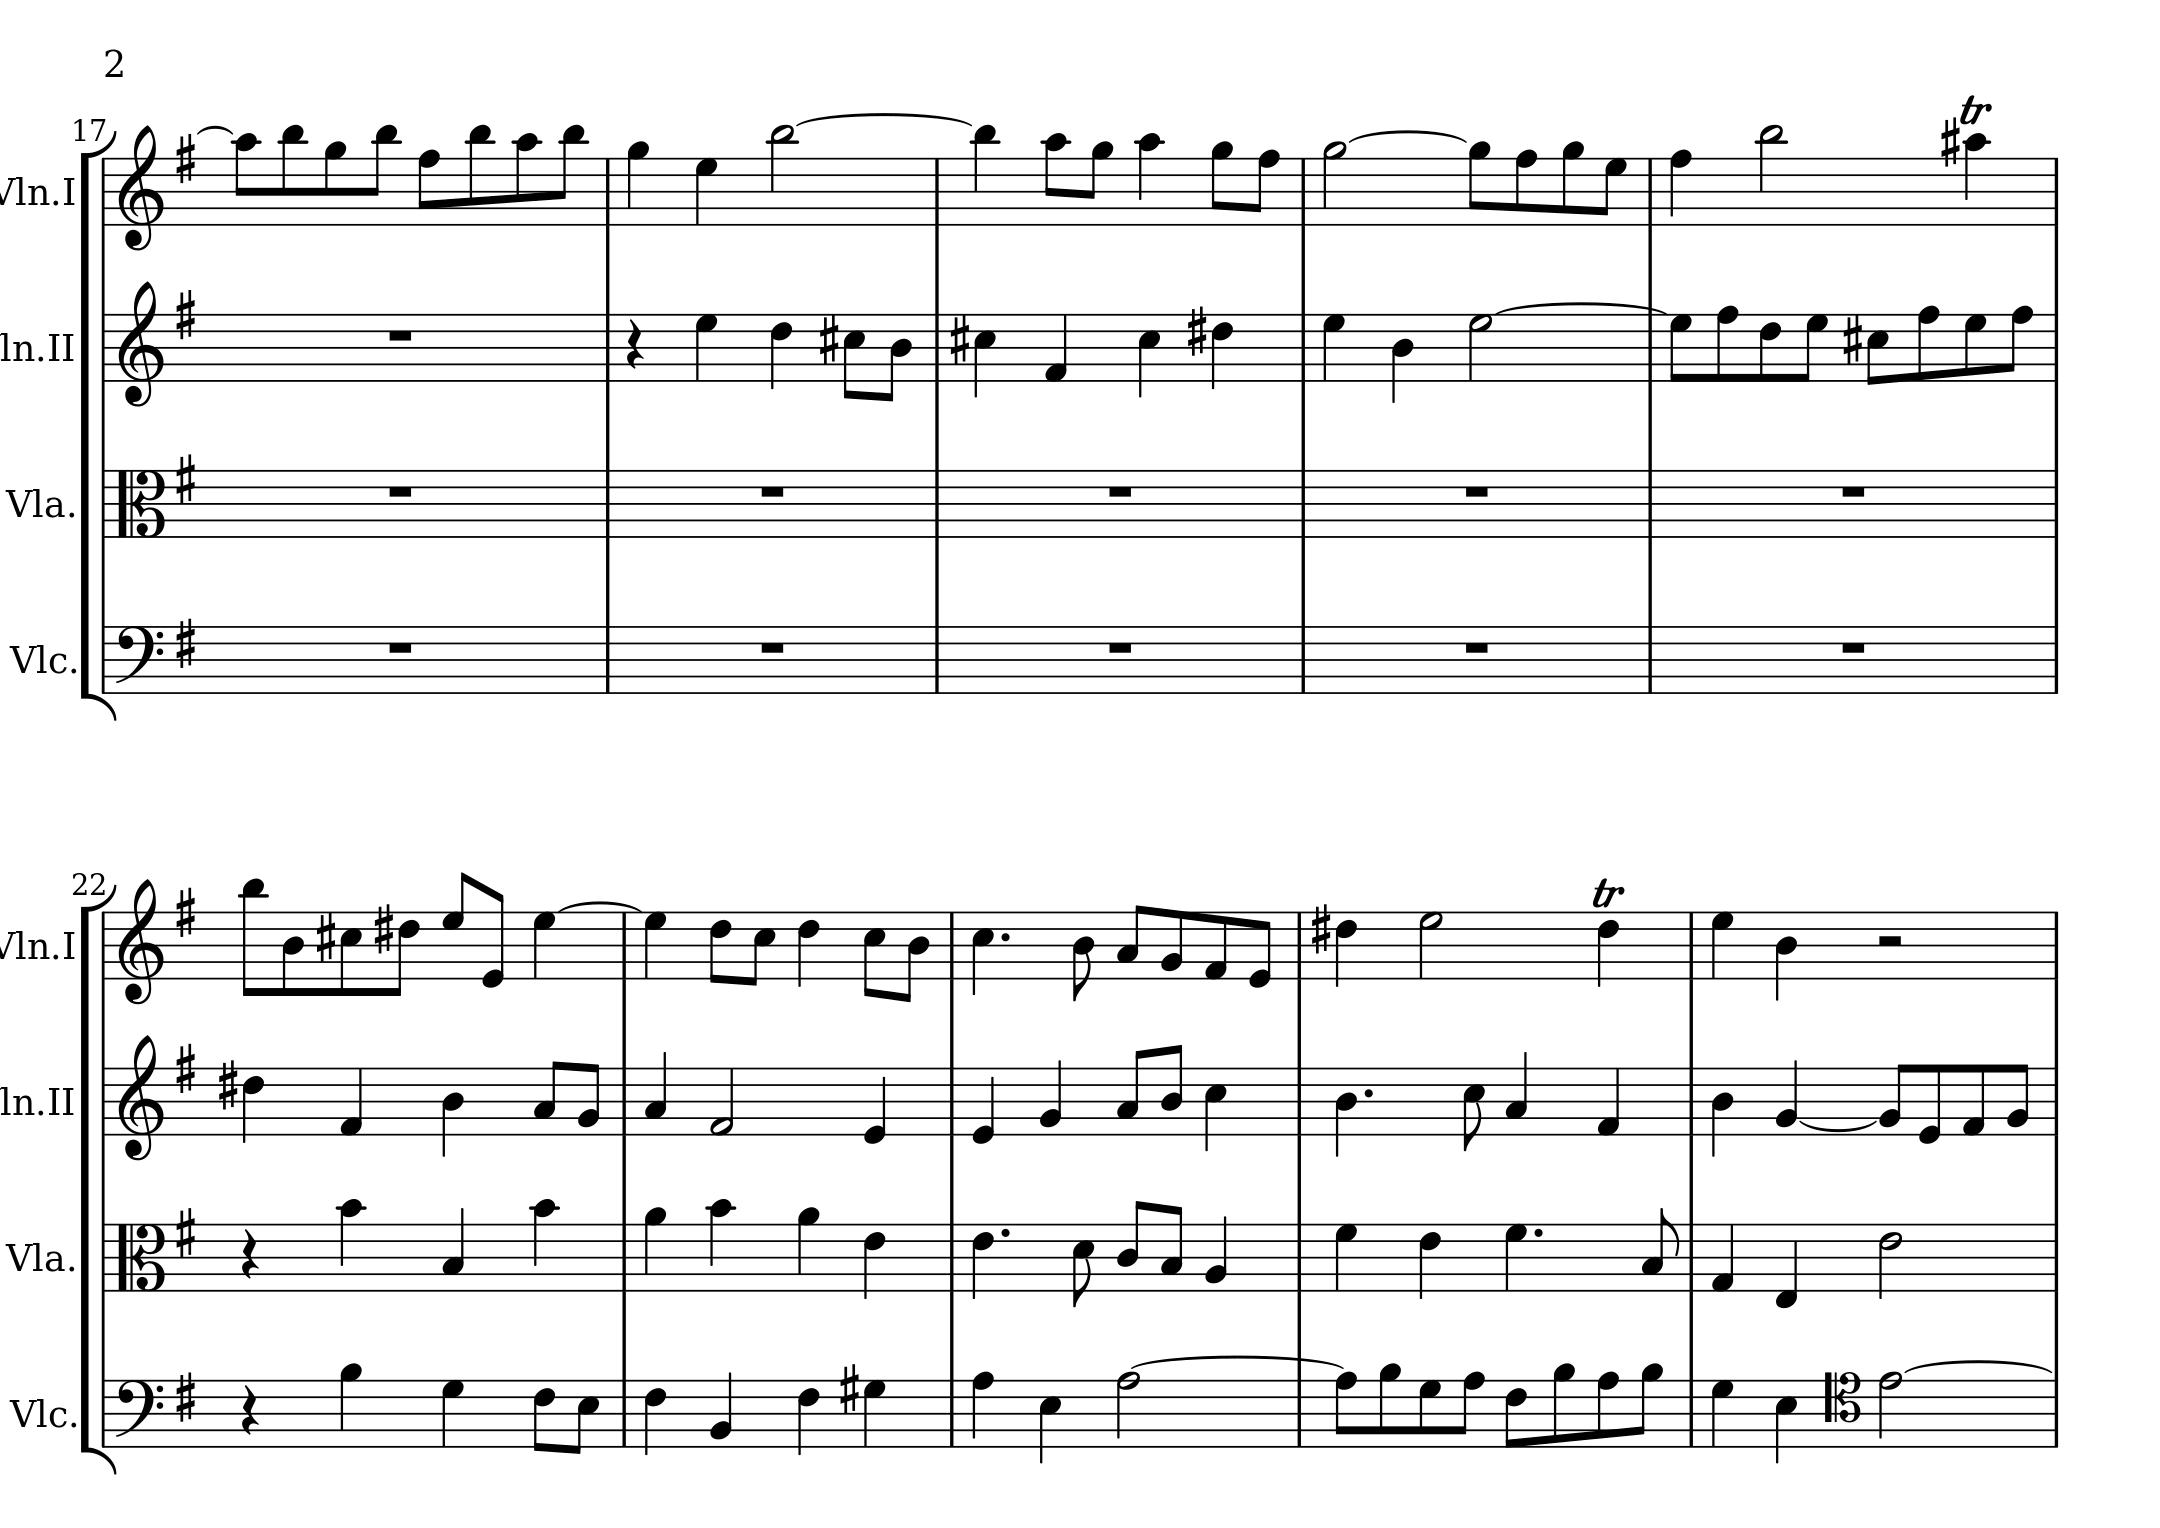1: (73, 116, 86, 142)
2: (103, 46, 126, 78), (69, 870, 89, 896), (88, 870, 108, 895)
2_1: (708, 1065, 736, 1138)
2_11: (767, 122, 796, 227), (1756, 122, 1785, 227)
2_6: (1877, 1222, 1902, 1301)
2_7: (1465, 313, 1493, 384), (1417, 910, 1442, 981)
2_8: (1115, 1369, 1141, 1449), (1877, 1368, 1902, 1449)
2_9: (1321, 139, 1346, 228)
4_-1: (1775, 1220, 1799, 1310)
4_0: (863, 1065, 890, 1144), (971, 1065, 997, 1144)
4_1: (1710, 1220, 1737, 1293), (337, 1067, 364, 1138), (1044, 313, 1068, 384), (1596, 1067, 1621, 1138)
4_10: (529, 1196, 559, 1293), (705, 1197, 734, 1293), (336, 1196, 364, 1293), (1136, 131, 1163, 228), (1963, 132, 1990, 228)
4_11: (971, 122, 997, 228)
4_2: (1202, 1214, 1231, 1293), (708, 1369, 734, 1449), (1039, 1057, 1063, 1138), (1775, 1057, 1799, 1136)
4_3: (1503, 1050, 1528, 1138), (643, 1050, 668, 1136), (442, 1206, 466, 1292)
4_4: (1389, 311, 1416, 403), (1708, 1065, 1735, 1158), (1773, 910, 1799, 1000), (440, 1065, 465, 1158), (1333, 1065, 1358, 1158)
4_5: (1136, 311, 1163, 400), (1773, 1376, 1799, 1465), (969, 910, 996, 997), (1202, 1065, 1227, 1154), (1037, 1378, 1062, 1467), (972, 311, 997, 399)
4_6: (642, 1376, 668, 1457), (969, 1220, 996, 1300), (1594, 910, 1621, 987), (1417, 1220, 1442, 1301), (1211, 311, 1235, 390), (862, 1220, 886, 1300), (796, 1378, 820, 1457), (796, 910, 820, 987), (769, 311, 792, 390), (241, 1065, 265, 1143), (1335, 910, 1356, 987)
4_7: (438, 1378, 466, 1449), (693, 155, 719, 227), (693, 313, 719, 384), (529, 910, 556, 981), (1333, 1220, 1360, 1292), (1708, 1378, 1735, 1449), (862, 1378, 888, 1447), (1321, 313, 1346, 384), (642, 910, 667, 981), (1708, 910, 1733, 981), (1503, 1220, 1528, 1292)
4_8: (969, 1369, 996, 1449), (1669, 147, 1694, 228)
4_9: (642, 1204, 668, 1293), (625, 139, 652, 227), (796, 1204, 820, 1293), (337, 1359, 362, 1449)
7: (89, 116, 106, 142)
8_0: (480, 886, 508, 989), (1915, 1062, 1943, 1146), (1247, 910, 1274, 989)
8_1: (1958, 1062, 1986, 1138), (1202, 908, 1229, 981)
8_10: (232, 131, 261, 227), (513, 131, 539, 228), (1044, 131, 1068, 227)
8_11: (240, 875, 270, 999), (552, 122, 587, 228), (367, 122, 400, 228), (466, 122, 495, 228), (280, 122, 306, 228)
8_2: (1877, 1062, 1909, 1136), (1159, 906, 1184, 981), (2005, 1062, 2029, 1136), (577, 1062, 600, 1138)
8_3: (1639, 1206, 1679, 1292), (1115, 1047, 1148, 1138), (1116, 901, 1148, 981), (533, 1058, 562, 1136), (1159, 1202, 1184, 1293)
8_4: (1116, 1197, 1148, 1293), (900, 910, 929, 1004), (882, 311, 911, 403), (1070, 910, 1095, 1004), (1159, 1042, 1184, 1136), (280, 908, 304, 997)
8_5: (567, 1376, 600, 1455), (746, 910, 776, 987), (337, 906, 362, 999), (842, 311, 867, 400), (862, 910, 886, 999), (1070, 1220, 1095, 1310), (1460, 1065, 1485, 1153), (1866, 313, 1890, 389)
8_6: (387, 910, 422, 999), (531, 1378, 557, 1454), (708, 908, 733, 984), (1503, 1378, 1528, 1450), (1758, 313, 1783, 384)
8_7: (440, 868, 470, 979), (1794, 313, 1829, 384), (1598, 157, 1627, 227), (1669, 313, 1694, 384), (1963, 313, 1988, 384), (1417, 1378, 1442, 1449)
8_8: (1249, 147, 1282, 228), (2001, 304, 2034, 384), (1454, 1369, 1485, 1449), (1513, 147, 1540, 228), (1713, 304, 1740, 384), (1915, 304, 1942, 384), (417, 147, 442, 228), (1333, 1369, 1358, 1449), (1596, 1369, 1621, 1449)
8_9: (1631, 1361, 1664, 1449), (1083, 141, 1115, 227), (1560, 141, 1586, 228), (323, 139, 347, 228), (1209, 141, 1234, 228), (1467, 141, 1492, 228), (1378, 1361, 1403, 1449), (1551, 1361, 1576, 1449)
Bracke: (78, 137, 121, 721), (78, 890, 117, 1480)
Cclef: (114, 470, 167, 541), (114, 1222, 165, 1292)
Fclef: (112, 1378, 165, 1450), (112, 622, 165, 691)
Gclef: (116, 122, 165, 253), (116, 1034, 165, 1159), (116, 279, 164, 407), (117, 876, 164, 1005)
Rests1: (384, 637, 417, 657), (1837, 480, 1869, 499), (1837, 637, 1869, 657), (384, 326, 417, 344), (384, 481, 417, 499), (1105, 637, 1135, 657), (1460, 481, 1492, 499), (757, 481, 787, 499), (1105, 481, 1135, 499), (757, 638, 787, 657), (1462, 638, 1492, 657)
Rests2: (1874, 933, 1905, 951)
Rests4: (624, 318, 647, 374), (240, 1382, 260, 1437), (240, 1227, 260, 1280)
Sharp: (170, 450, 198, 506), (172, 286, 198, 341), (174, 1369, 198, 1425), (174, 131, 198, 185), (172, 617, 197, 670), (1184, 303, 1207, 357), (174, 885, 197, 939), (817, 313, 840, 365), (1841, 313, 1864, 365), (314, 910, 337, 962), (174, 1042, 197, 1095), (174, 1206, 197, 1258), (949, 313, 971, 367), (839, 1359, 860, 1414), (372, 901, 394, 954), (1310, 901, 1331, 954), (218, 1057, 238, 1111), (1940, 116, 1960, 169)
Single_barline: (615, 913, 637, 977), (1293, 313, 1313, 382), (928, 157, 948, 225), (1293, 157, 1313, 225), (1293, 470, 1313, 537), (943, 1067, 963, 1134), (928, 470, 948, 536), (597, 470, 617, 536), (2048, 157, 2066, 227), (928, 313, 946, 382), (94, 470, 112, 537), (1641, 470, 1659, 537), (615, 1067, 633, 1134), (1290, 1067, 1308, 1134), (1682, 1067, 1700, 1134), (615, 1222, 633, 1290), (1290, 1222, 1308, 1290), (615, 1378, 633, 1445), (94, 1224, 112, 1290), (2048, 1381, 2066, 1445), (1642, 318, 1661, 380), (599, 157, 615, 225), (96, 1067, 112, 1134), (944, 1378, 961, 1445), (1292, 1378, 1308, 1445), (1684, 1378, 1700, 1445), (1642, 159, 1659, 225), (96, 314, 112, 380), (599, 314, 615, 380), (599, 627, 615, 693), (1295, 627, 1312, 693), (1684, 911, 1700, 977), (2048, 911, 2064, 977), (96, 911, 112, 977), (944, 911, 961, 977), (96, 1379, 112, 1445), (96, 159, 112, 223), (96, 627, 112, 691), (943, 1224, 959, 1288), (2048, 1224, 2064, 1288), (2048, 1067, 2062, 1136), (1684, 1222, 1699, 1292), (2048, 625, 2062, 693), (1292, 911, 1307, 979), (929, 627, 944, 693), (1642, 627, 1657, 693), (2049, 468, 2062, 541), (2049, 313, 2062, 384)
Slur: (1120, 1354, 1350, 1371), (796, 111, 971, 127), (1489, 299, 1679, 314), (1900, 1358, 2056, 1376), (1346, 127, 1469, 142), (556, 900, 643, 911), (1799, 1120, 1877, 1131), (194, 124, 235, 137)
Tensor_Cclef: (1823, 1368, 1862, 1447)
Trill: (1957, 89, 1991, 126), (1589, 875, 1626, 910)
Vla: (3, 480, 68, 528), (7, 1234, 68, 1282)
Vlc: (7, 637, 71, 680), (7, 1391, 69, 1434)
Vln: (2, 169, 50, 212)
dot: (997, 1224, 1012, 1240), (997, 929, 1012, 944), (1361, 1085, 1376, 1100), (1532, 1224, 1545, 1239)
